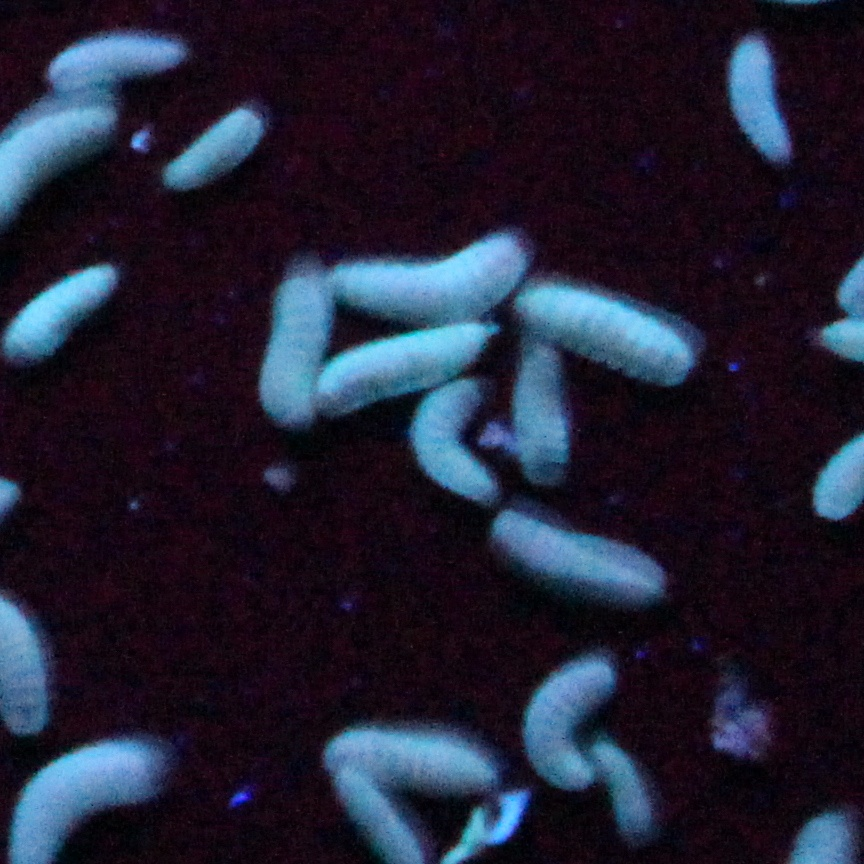larve: (514, 285, 692, 383), (330, 241, 523, 322), (317, 322, 490, 411), (499, 507, 665, 597), (522, 661, 612, 791), (3, 265, 116, 362), (324, 731, 498, 789), (261, 275, 330, 419), (414, 380, 494, 499), (163, 106, 261, 189), (48, 37, 186, 89), (731, 41, 790, 161), (513, 352, 567, 471), (594, 740, 654, 839)
